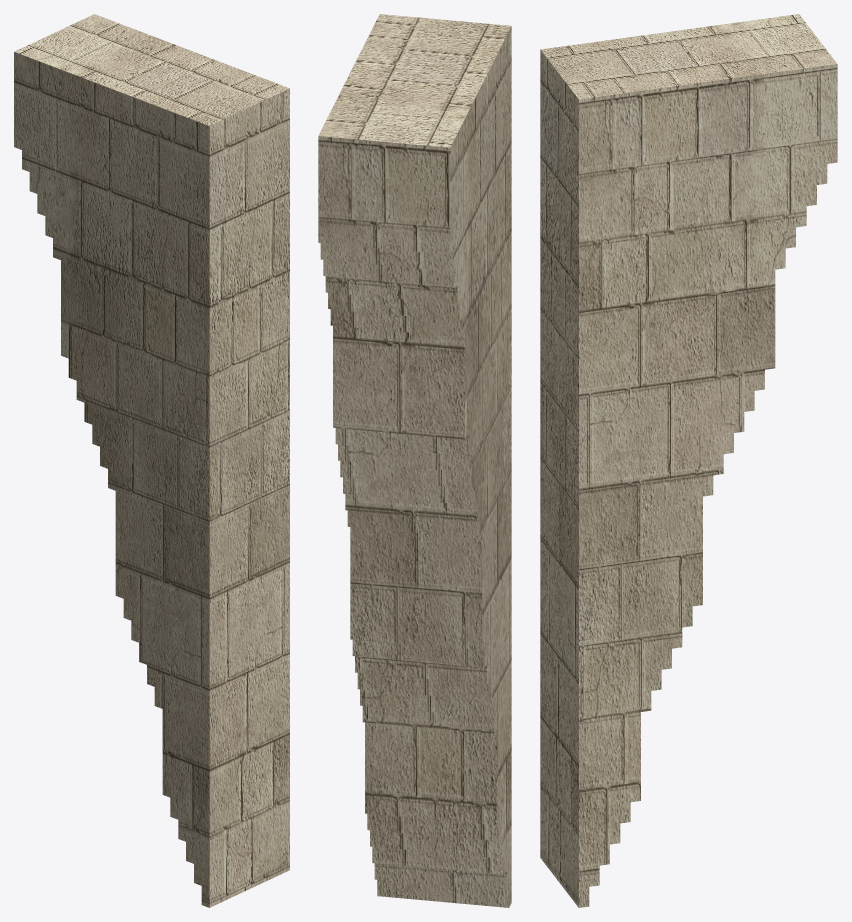
The model's file is walls_129.fbx.
3 renders of one model, left to right at view 1: azimuth 30°, elevation 25°; view 2: azimuth 150°, elevation 25°; view 3: azimuth 270°, elevation 25°, orthographic. The views are drawn at different scales.
Visible parts, largest first — view 1: walls_129; view 2: walls_129; view 3: walls_129.
Part boxes in pixels (x1,y1,x2,y2): walls_129: (14,14,289,907); walls_129: (318,14,511,907); walls_129: (540,14,837,907).
Size of the model in its own units: 65.08 by 287 by 95.58.
